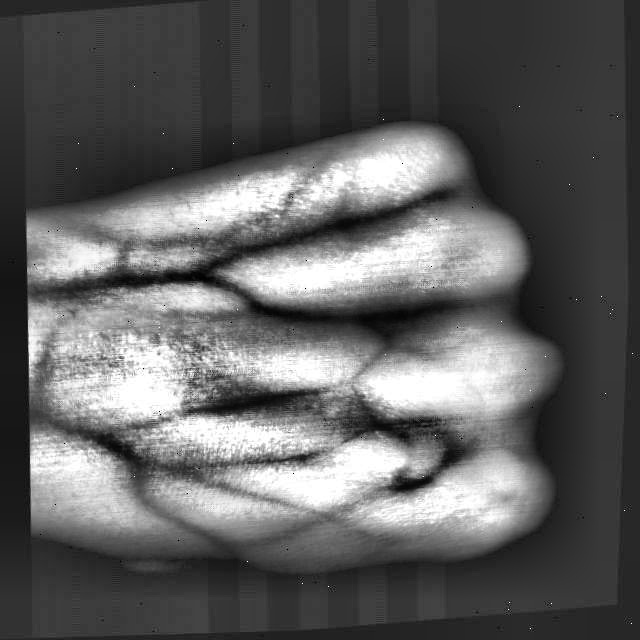Vein: (28, 261, 204, 310)
